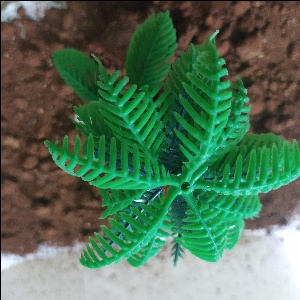plant: (65, 35, 278, 258)
